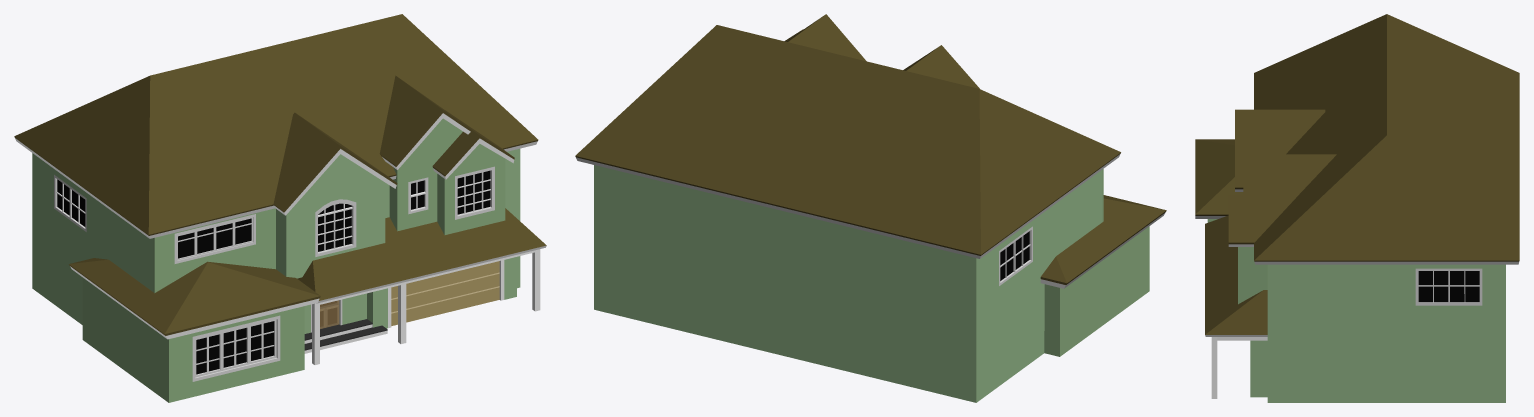
Rendered from House-31.fbx.
3 renders of one model, left to right at view 1: azimuth 30°, elevation 25°; view 2: azimuth 150°, elevation 25°; view 3: azimuth 270°, elevation 25°, orthographic. The views are drawn at different scales.
Parts seen in each view (by area): view 1: House-20-d; view 2: House-20-d; view 3: House-20-d.
Part boxes in pixels (box(x1,y1,x2,y2)): House-20-d: box(14, 14, 546, 402); House-20-d: box(575, 14, 1166, 402); House-20-d: box(1195, 14, 1519, 402).
Size of what is drawn, in the model's own units: 19.58 by 11.27 by 13.81.
